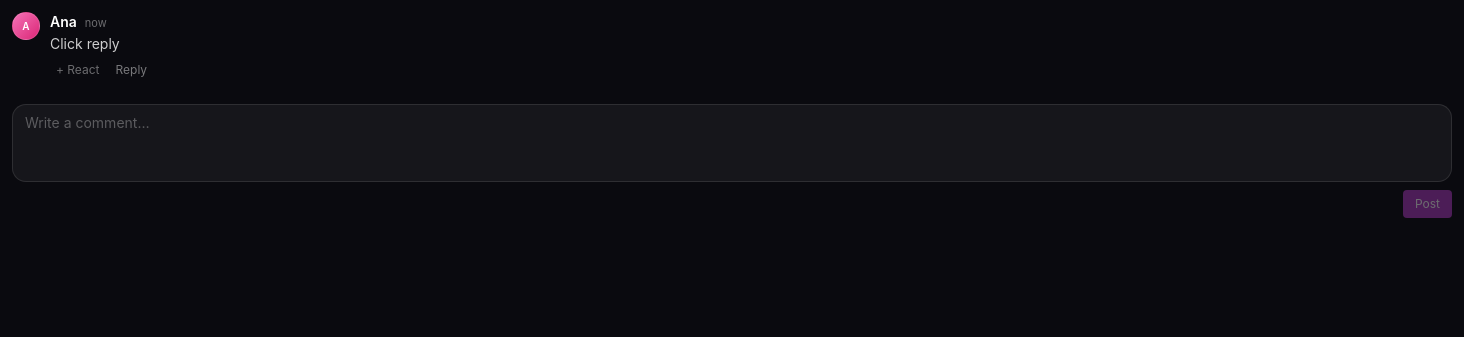
CommentThread › shows Reply composer after clicking Reply
The image size is (1464, 337).
Click the button "Reply": click(131, 70) x1=110 y1=60 x2=153 y2=80
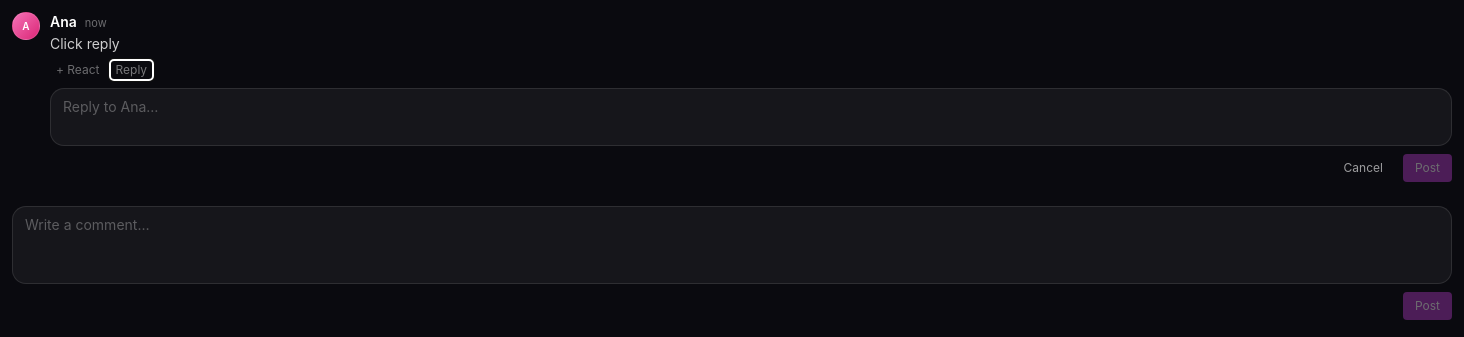
Result: the text box with placeholder "Reply to Ana…" is shown at x1=50 y1=88 x2=1452 y2=146
